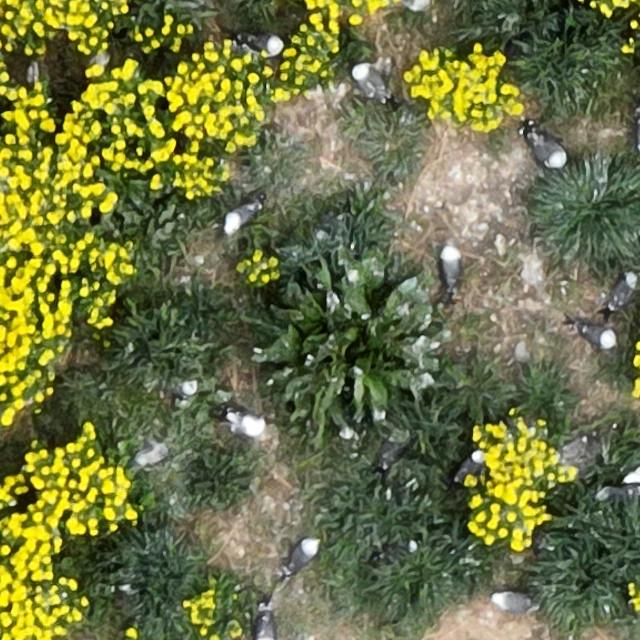umineko: (354, 66, 386, 99), (534, 135, 567, 166), (289, 538, 318, 570), (610, 274, 636, 308), (224, 204, 256, 231), (245, 34, 284, 55), (228, 412, 262, 436), (578, 326, 614, 348), (441, 247, 460, 287), (457, 450, 484, 477), (492, 591, 530, 610), (257, 616, 275, 640)
